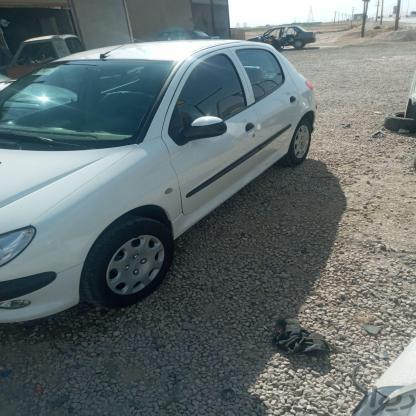Car: (0, 32, 316, 337), (241, 25, 324, 51)
